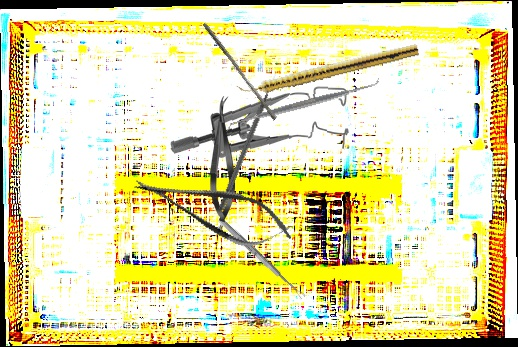Handpiece: (235, 39, 421, 101)
Hook Surgical: (217, 72, 280, 211)
Micro Scissor: (127, 157, 300, 262), (210, 96, 235, 222)
Pusher: (198, 22, 281, 121)
Spatula Surgical: (222, 75, 383, 135)
Speculum: (169, 78, 352, 165)
Surgical Spoon: (217, 216, 306, 301)
